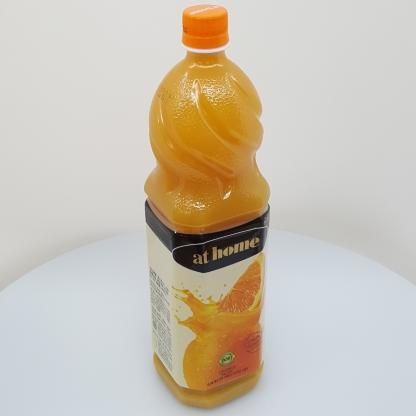-------1-5L: (144, 4, 271, 409)
